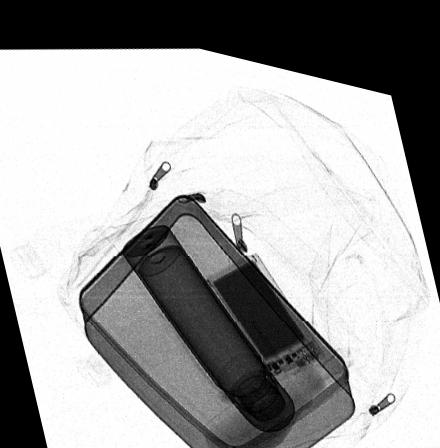Powerbank: (202, 238, 325, 369)
